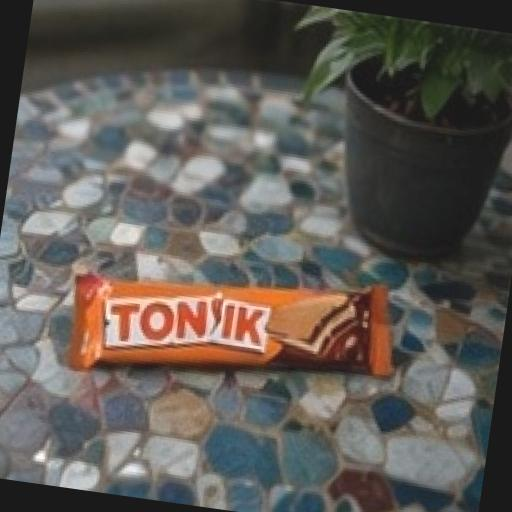tonik: (30, 195, 477, 489)
